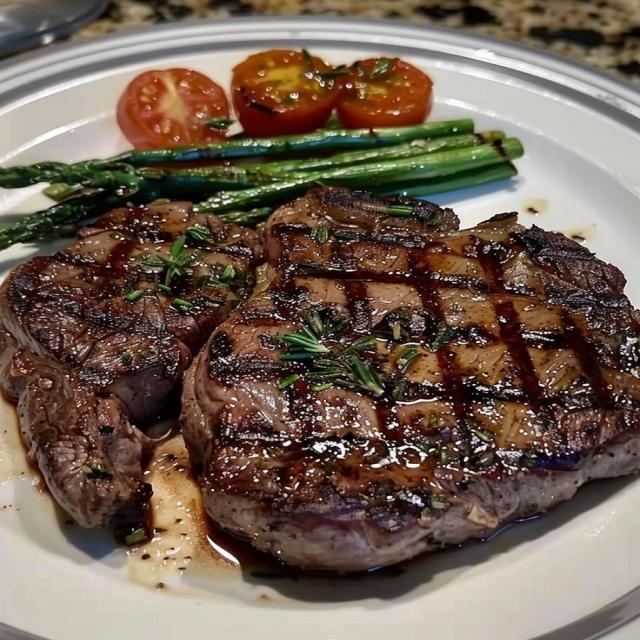sliced_tomato: (233, 49, 339, 136), (117, 68, 229, 148), (337, 58, 431, 127)
